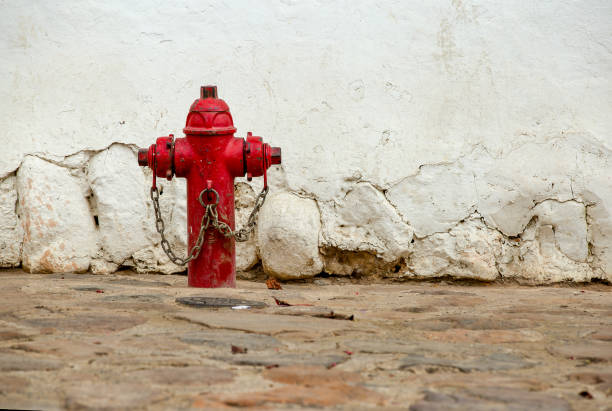firehdyrant: (133, 83, 285, 292)
